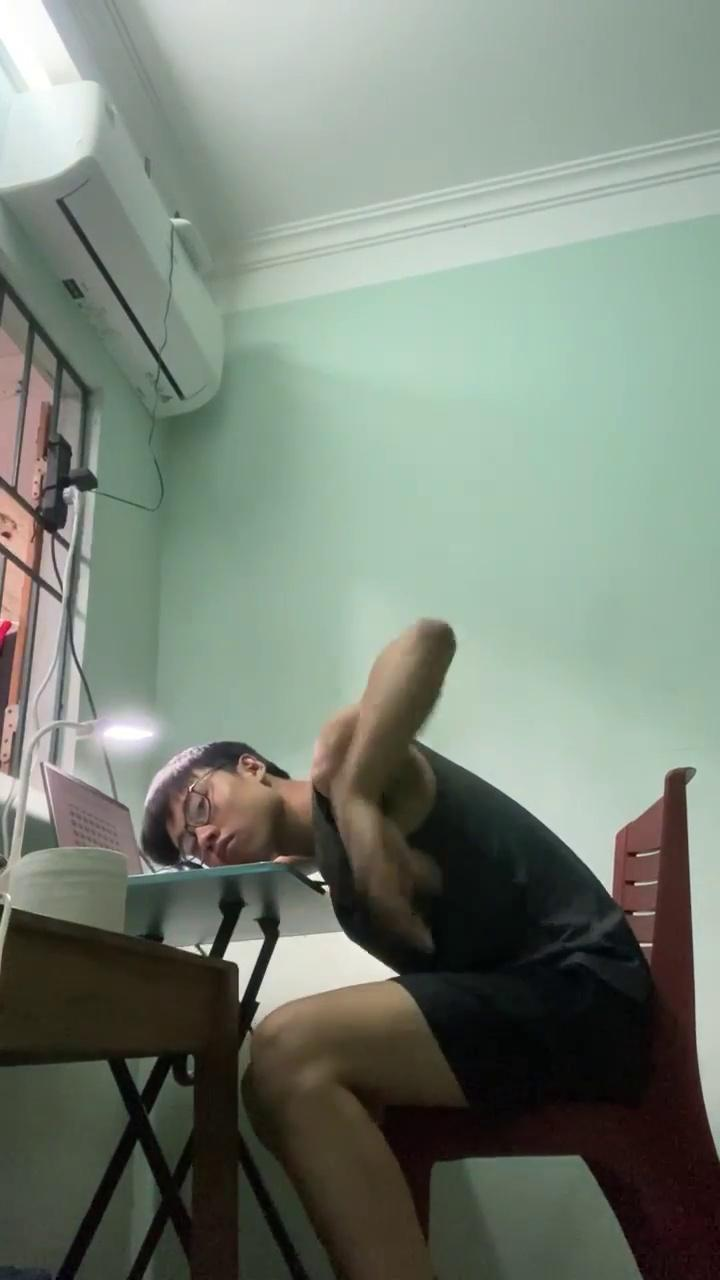BadPosture: (141, 619, 654, 1279)
